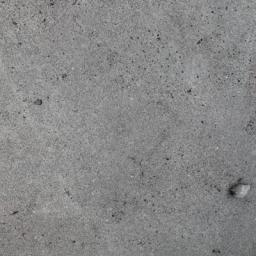FOD: (226, 180, 255, 205)
